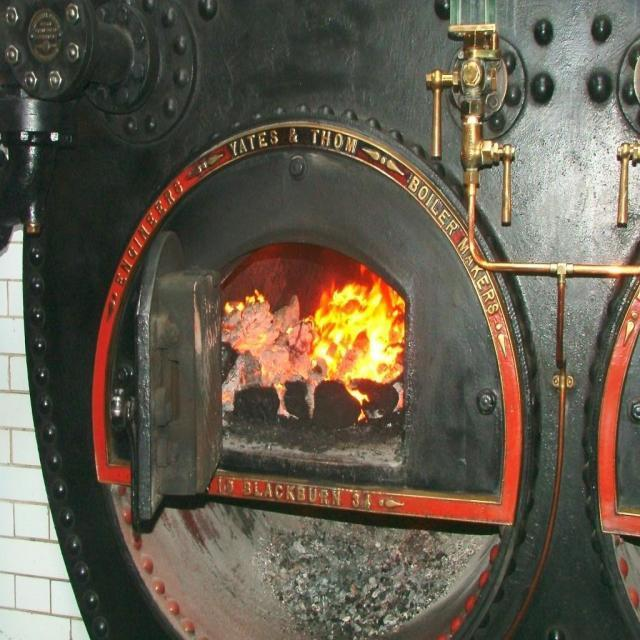fire: (309, 265, 405, 403)
